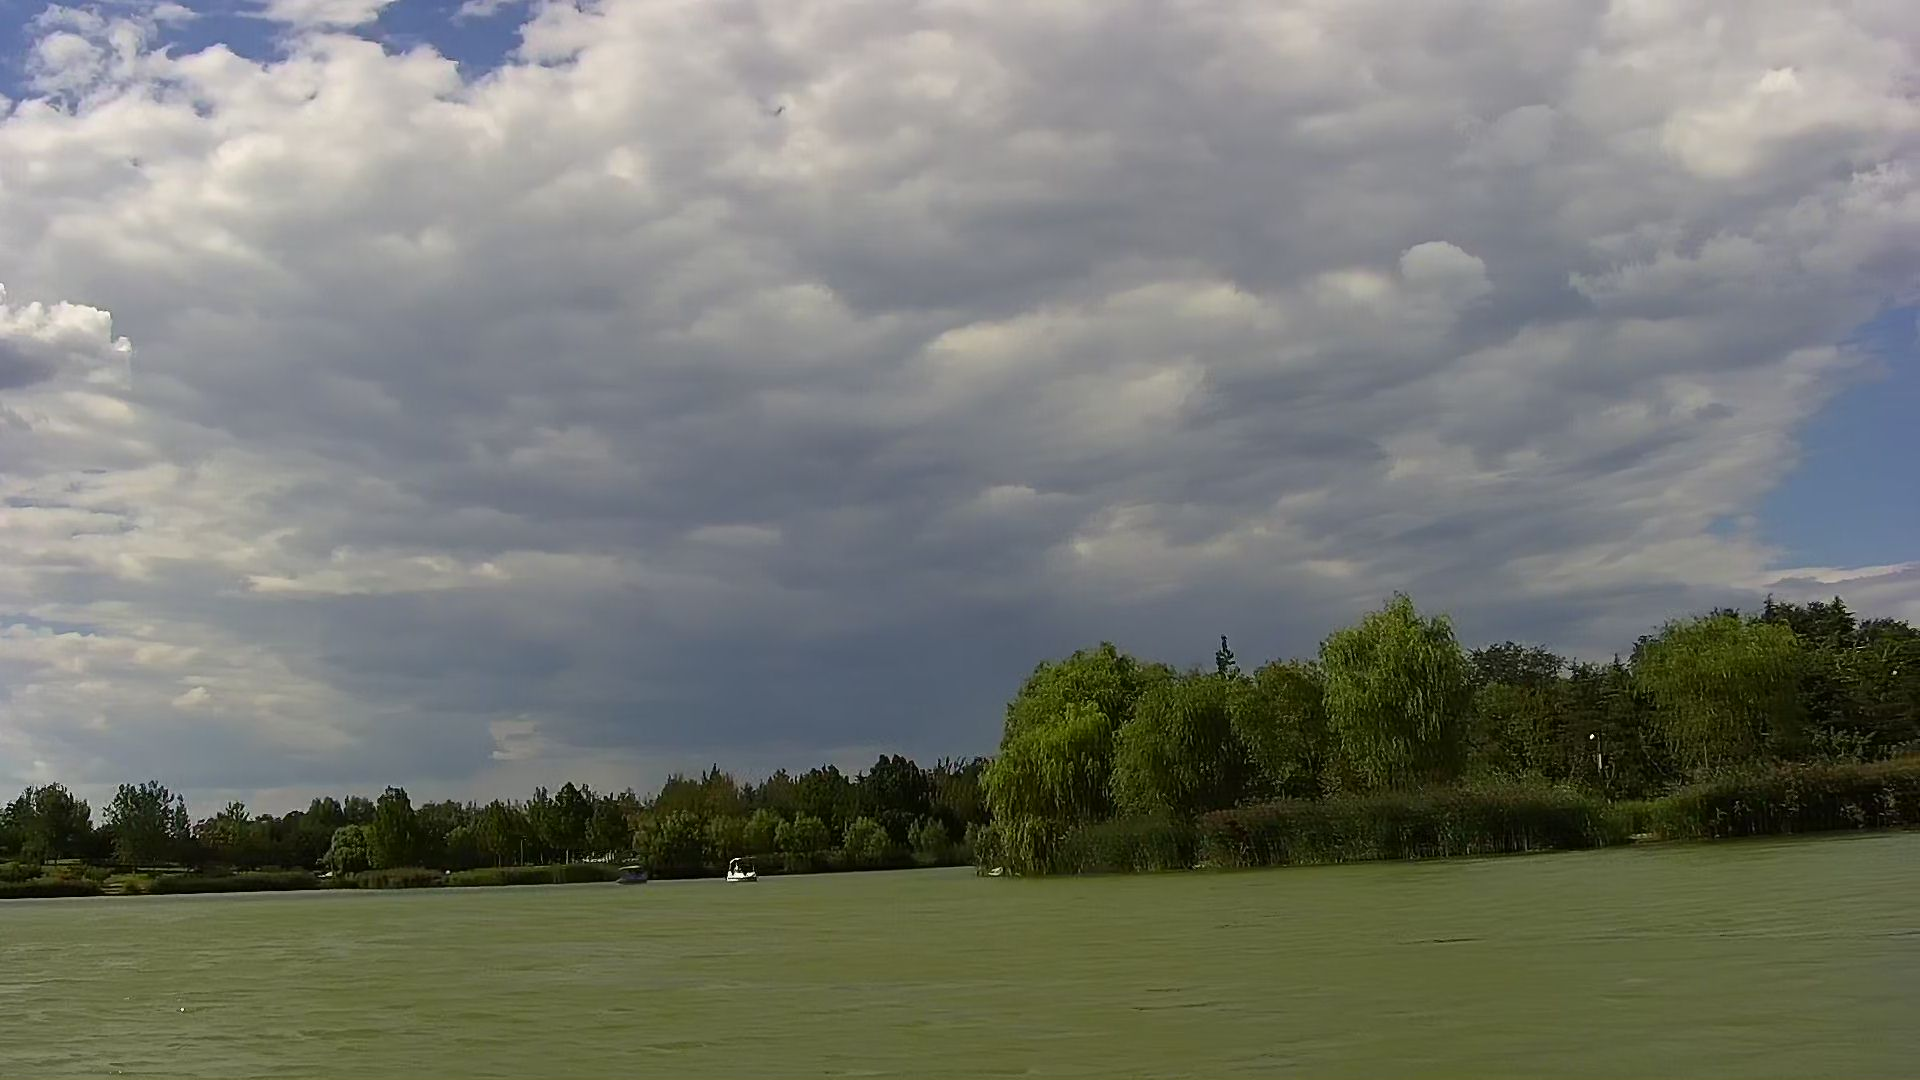boat: (723, 853, 764, 887), (615, 864, 651, 887)
